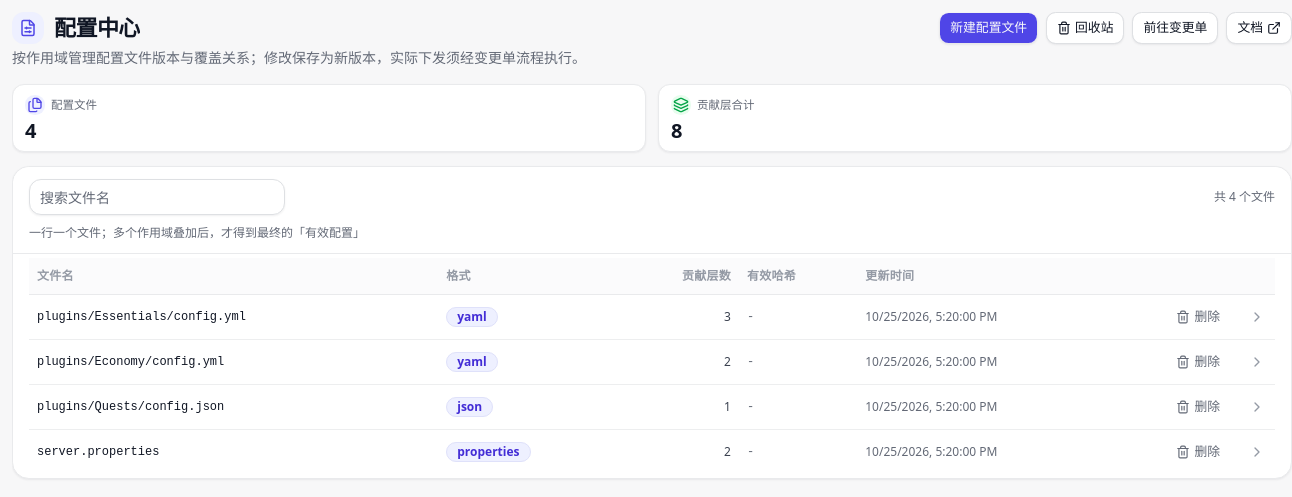
Test case: /configs 配置中心页 › keyword 搜索过滤配置文件
The width and height of the screenshot is (1292, 497).
Expected: the text "plugins/Essentials/config.yml" is shown, left=37, top=308, right=261, bottom=324
Type "Economy" into the field labelled "搜索文件名" at (157, 197), box left=29, top=179, right=285, bottom=215
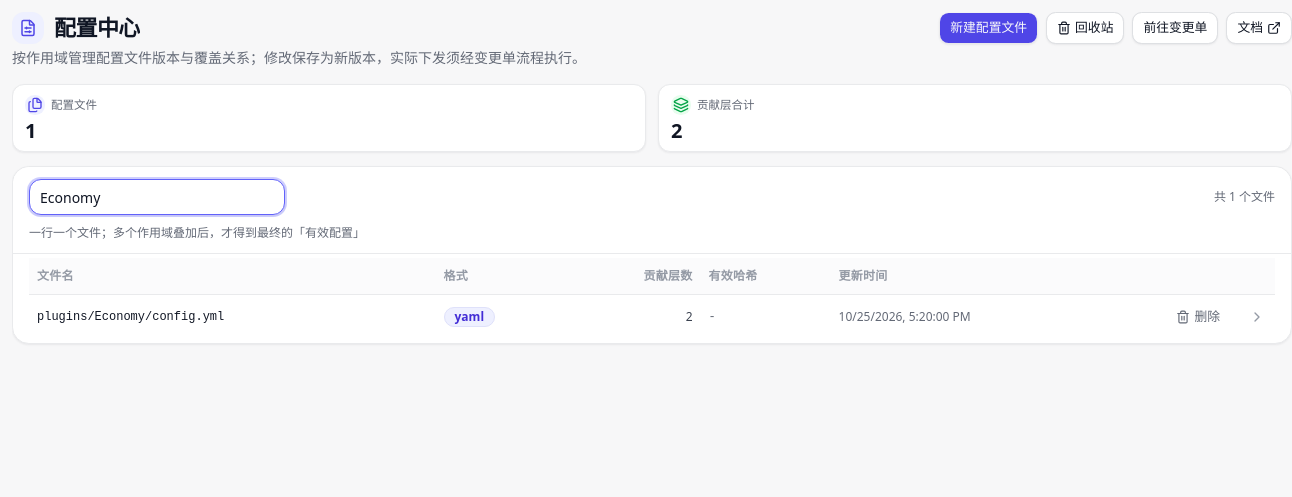
Expected: the text "plugins/Economy/config.yml" is shown, left=37, top=310, right=224, bottom=324
Expected: the text "plugins/Essentials/config.yml" is gone
